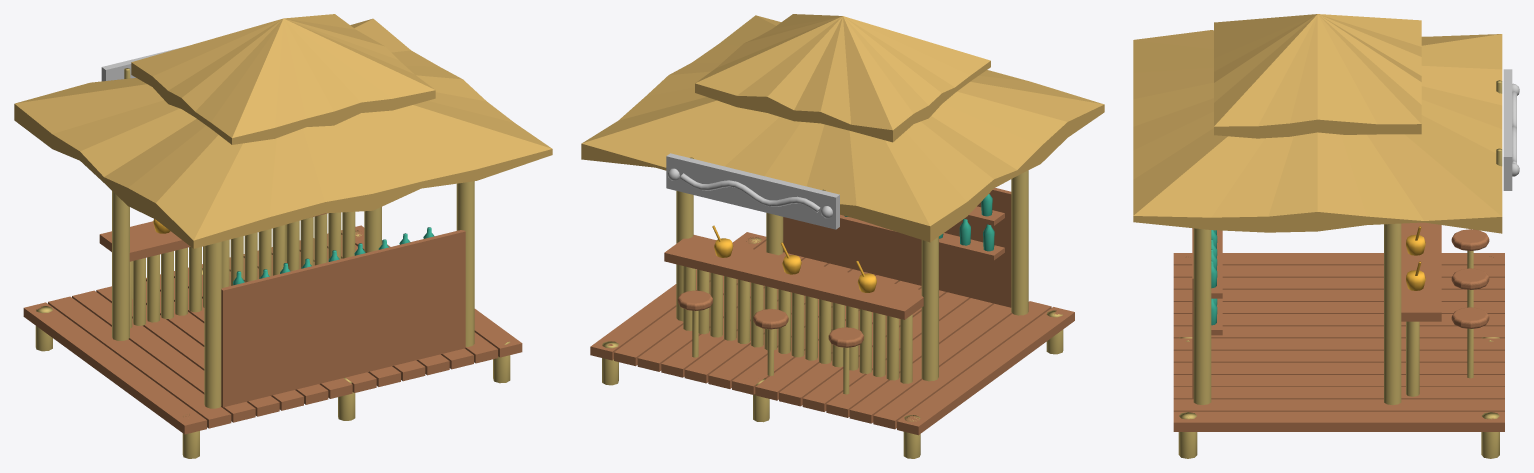
The model's file is BumperTikiBar.obj.
3 views of the same model, side by side, from view 1: azimuth 30°, elevation 25°; view 2: azimuth 150°, elevation 25°; view 3: azimuth 270°, elevation 25° (orthographic). The views are drawn at different scales.
Parts seen in each view (by area): view 1: Thatch, Wood, Bamboo, Bottles, Sign; view 2: Thatch, Wood, Bamboo, Sign, SignWave, Cups, Bottles; view 3: Thatch, Wood, Bamboo, Sign, Cups, Bottles, SignWave.
Boxes of the visible parts, x1,y1,x2,y2 form: Thatch: [14, 14, 552, 248]; Wood: [23, 213, 522, 434]; Bamboo: [35, 68, 510, 458]; Bottles: [233, 227, 434, 285]; Sign: [101, 46, 184, 81]; Thatch: [581, 14, 1104, 242]; Wood: [590, 188, 1074, 435]; Bamboo: [602, 157, 1063, 458]; Sign: [666, 153, 839, 229]; SignWave: [667, 168, 832, 218]; Cups: [712, 225, 876, 292]; Bottles: [844, 194, 994, 251]; Thatch: [1133, 14, 1502, 233]; Wood: [1173, 222, 1504, 431]; Bamboo: [1178, 80, 1502, 458]; Sign: [1503, 69, 1512, 190]; Cups: [1406, 226, 1425, 290]; Bottles: [1211, 230, 1217, 325]; SignWave: [1512, 83, 1519, 176].
Bounding box in the file's own units: 14.8 × 13.9 × 13.41.
